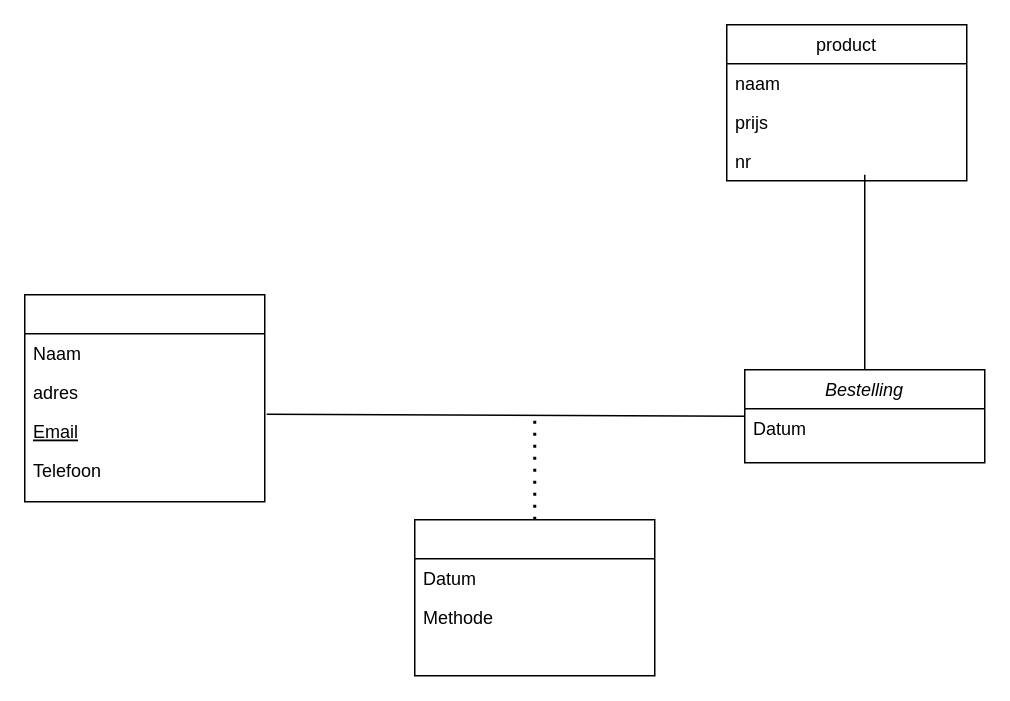
Image size: 1010x701. Some labels were removed from this diagram. Here are the shapes that lost their labels. From the top down, the box of each, then its label:
(23, 293, 265, 502): Klant
(413, 518, 655, 676): Betaling
